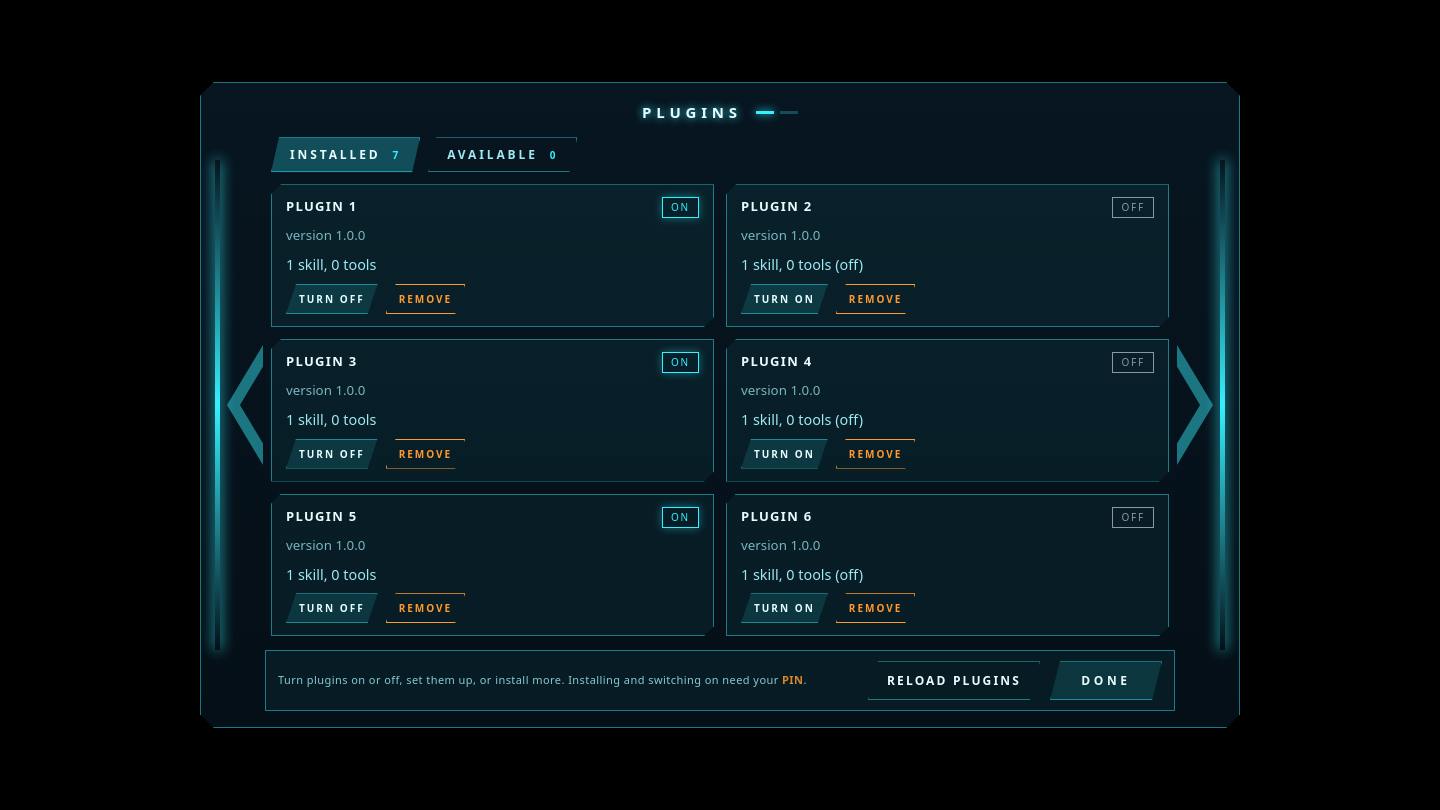
Scenario: plugins in the glass panel › goes back a page when the last card of the last page is removed
The image size is (1440, 810).
Click the button with aria-label "Next page".
click(1195, 405)  # box [1169, 335, 1221, 475]
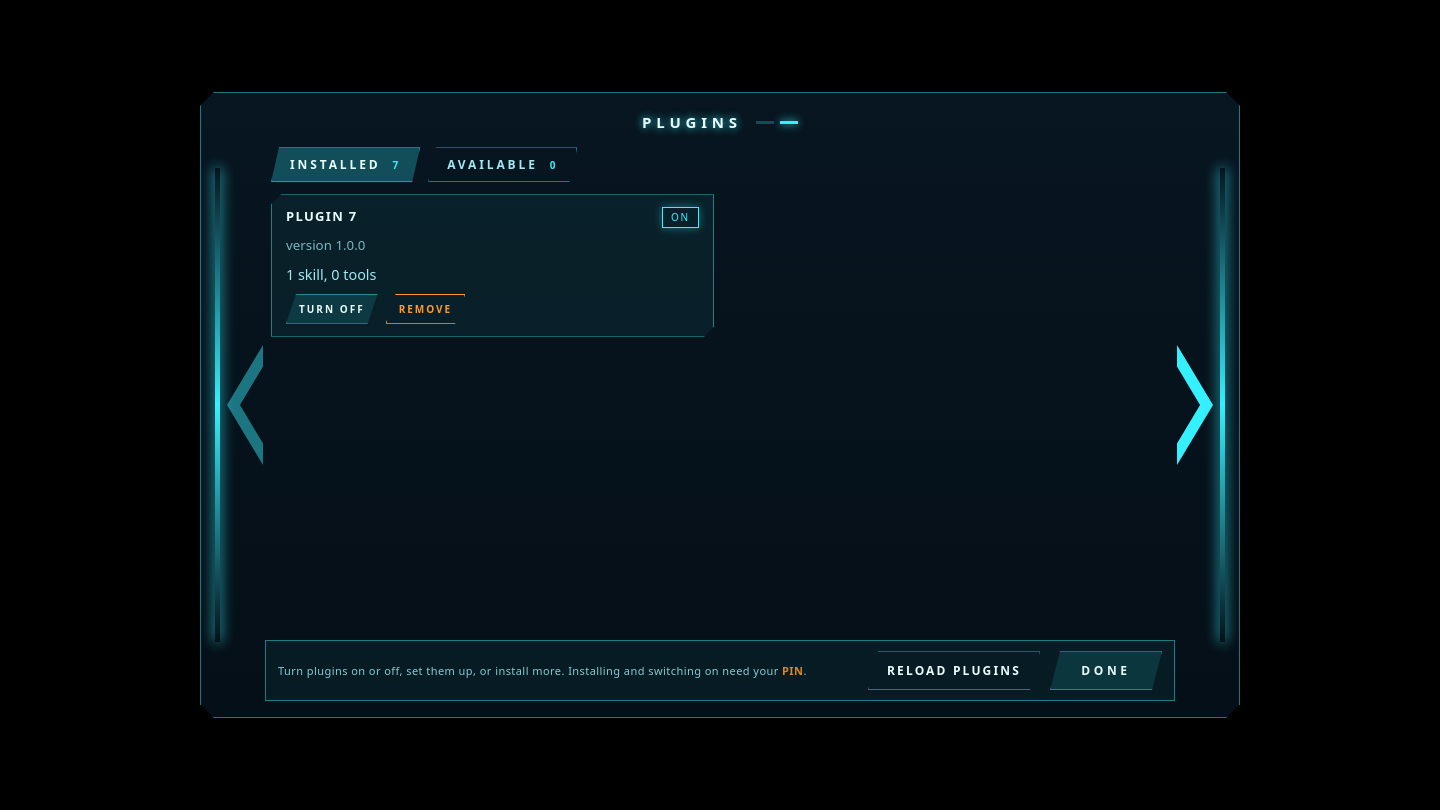
Now the number of list items is 1, box [271, 194, 714, 337]
Click the button "Remove".
click(425, 309)  # box [386, 294, 465, 324]
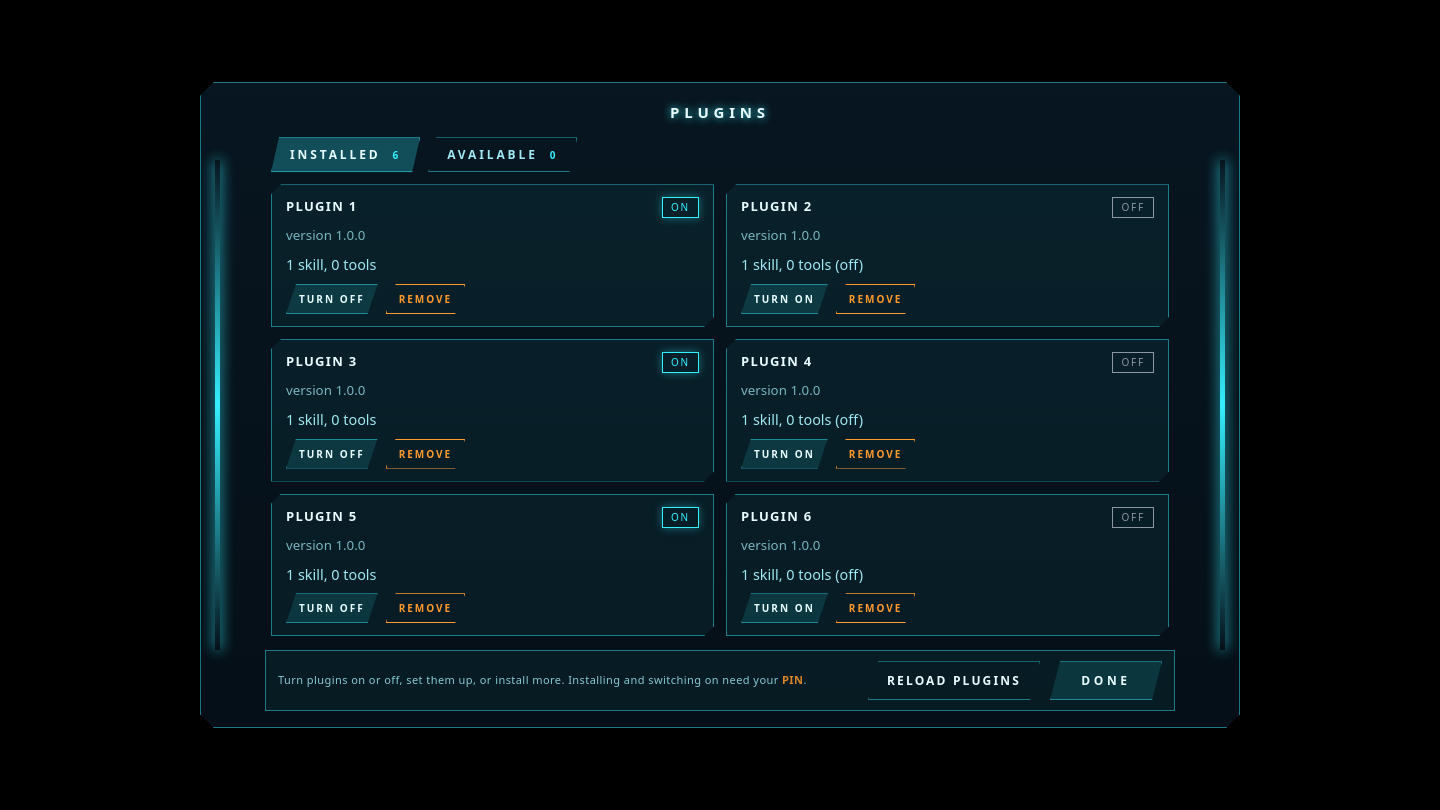
Now the number of list items is 6, box [271, 184, 714, 327]; [726, 184, 1169, 327]; [271, 339, 714, 482]; [726, 339, 1169, 482]; [271, 494, 714, 636]; [726, 494, 1169, 636]
